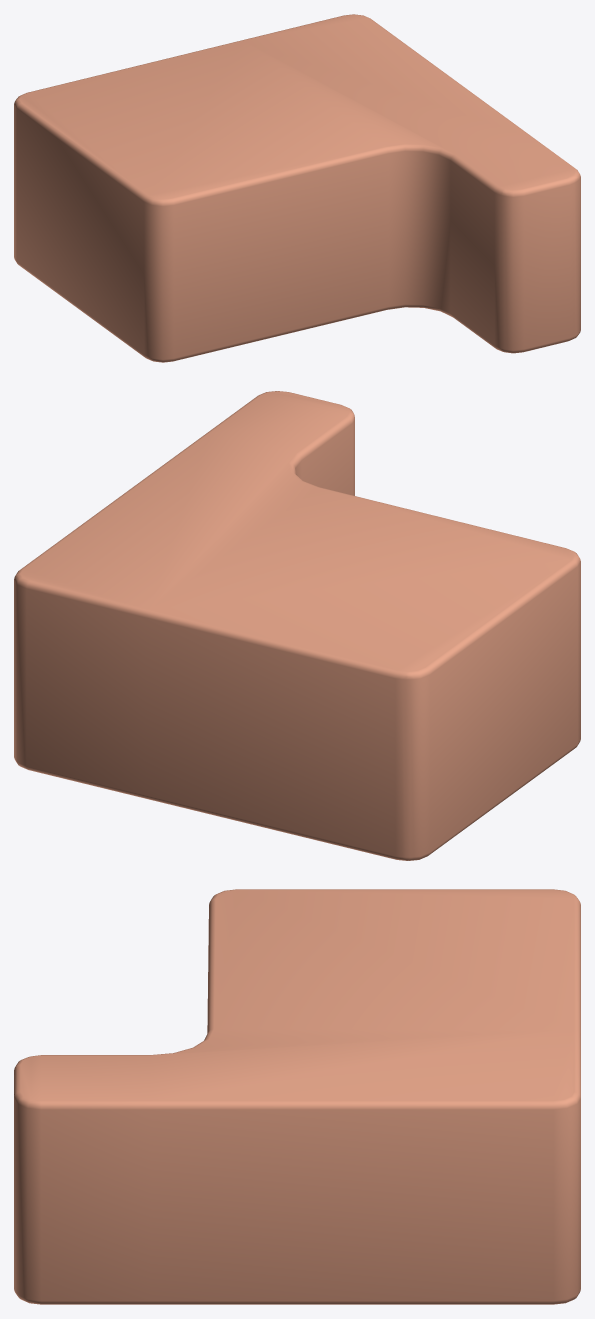
File: island_lv6_2.fbx
3 renders of one model, top to bottom at view 1: azimuth 30°, elevation 25°; view 2: azimuth 150°, elevation 25°; view 3: azimuth 270°, elevation 25°, orthographic. The views are drawn at different scales.
Visible parts, largest first — view 1: island_lv6_2; view 2: island_lv6_2; view 3: island_lv6_2.
Boxes of the visible parts, <box> form: island_lv6_2: <box>14,14,580,362</box>; island_lv6_2: <box>14,391,580,860</box>; island_lv6_2: <box>14,889,580,1304</box>.
Size of the model in its own units: 1143 by 500 by 1265.
